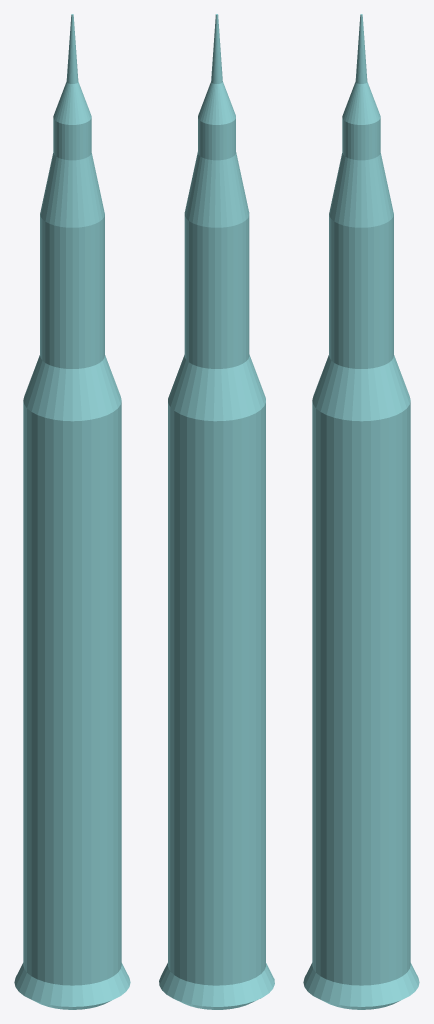
File: ref_saturn_v.fbx
The picture shows the model from 3 angles, left to right: view 1: azimuth 90°, elevation 25°; view 2: azimuth 210°, elevation 25°; view 3: azimuth 270°, elevation 25°; orthographic projection.
Parts seen in each view (by area): view 1: ref_saturn_v; view 2: ref_saturn_v; view 3: ref_saturn_v.
Boxes of the visible parts, x1,y1,x2,y2 form: ref_saturn_v: [14, 14, 130, 1009]; ref_saturn_v: [159, 14, 274, 1009]; ref_saturn_v: [303, 14, 419, 1009].
Size of the model in its own units: 11.92 by 111 by 11.92.
